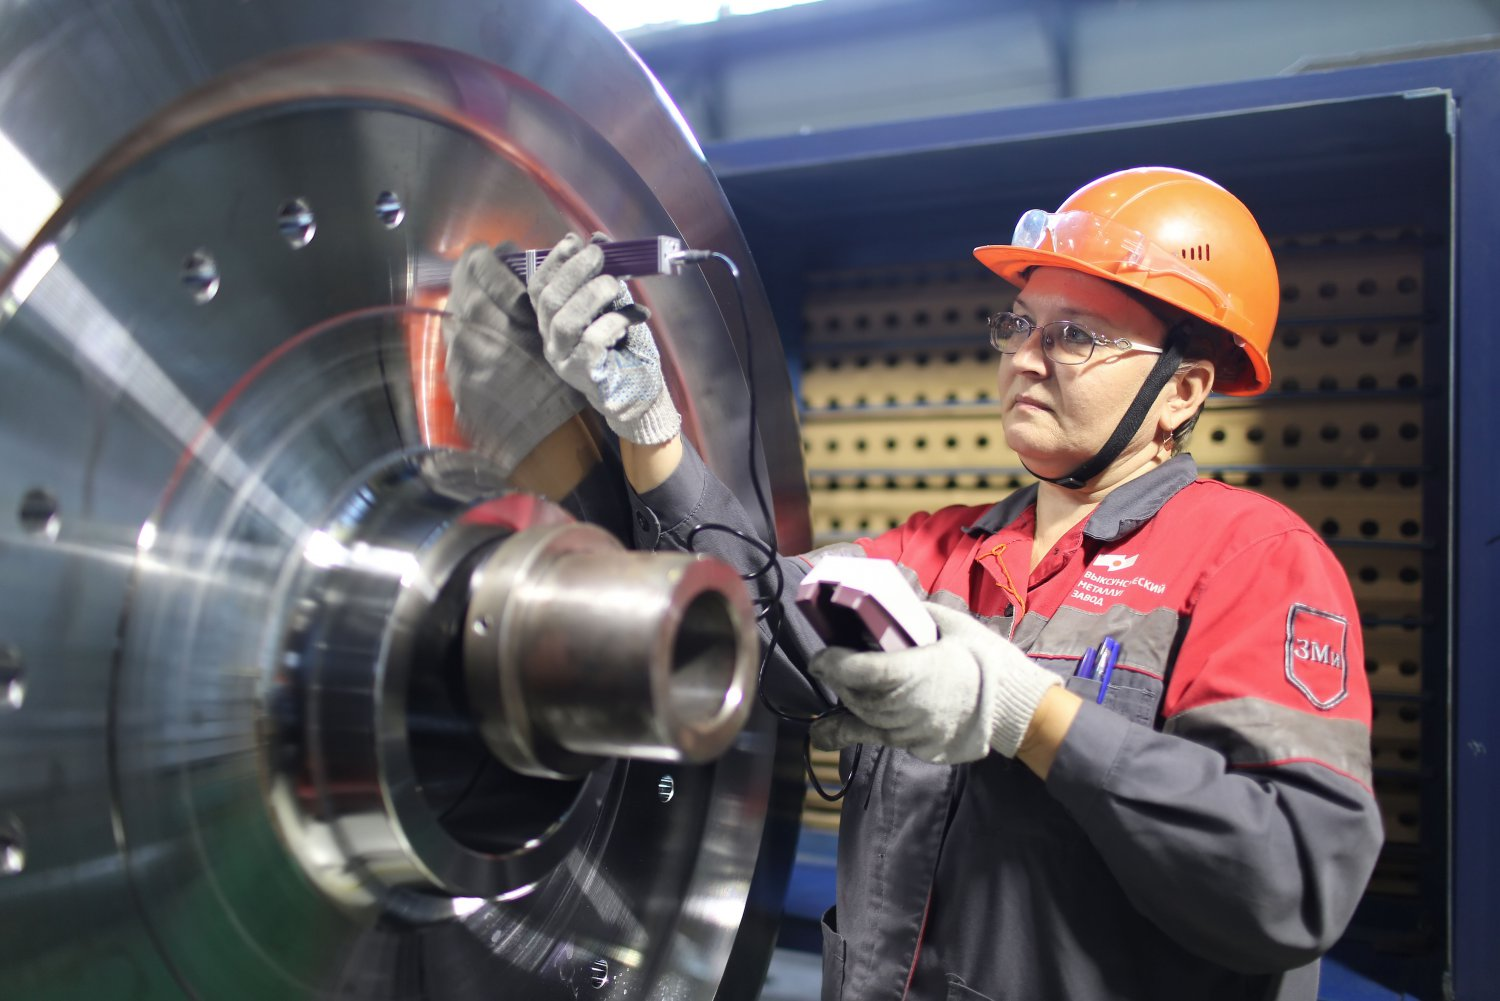person: (518, 165, 1389, 1000)
